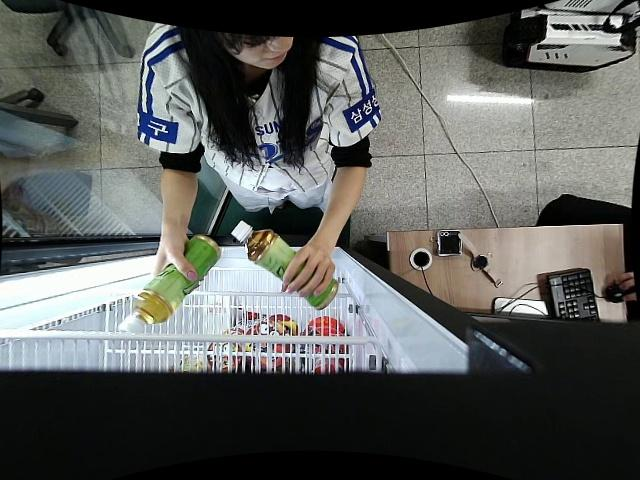00_hand: (277, 247, 337, 299), (146, 231, 199, 284)
19_17cha: (123, 234, 220, 333), (231, 222, 338, 309)
